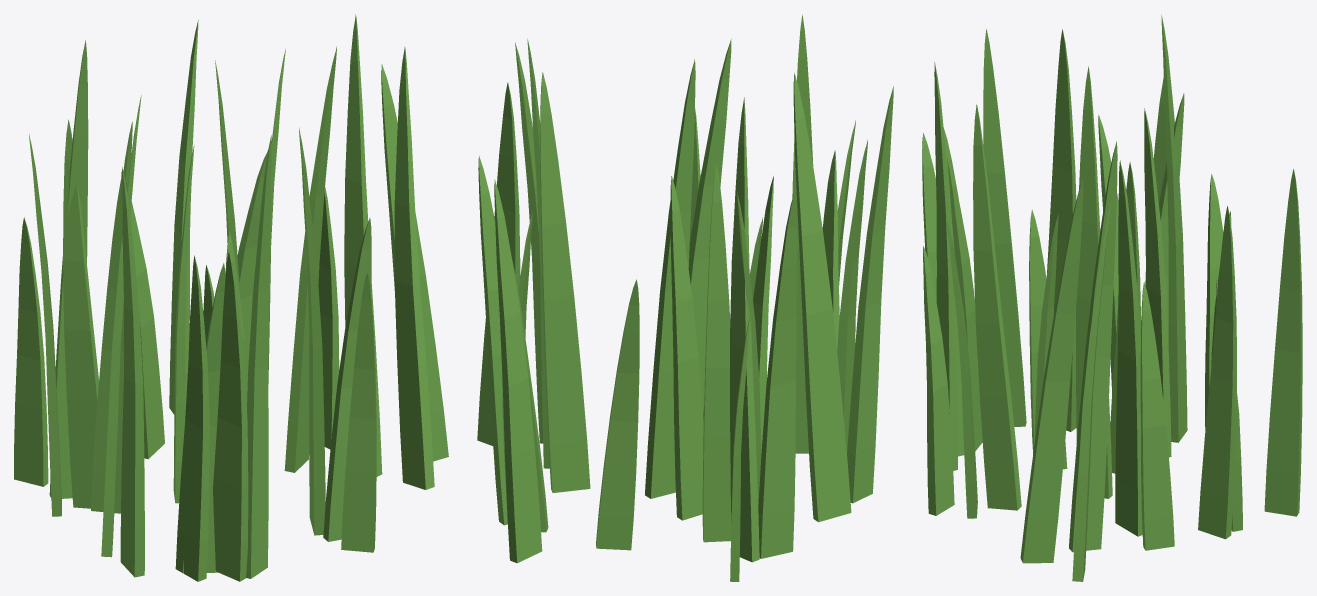
Rendered from High grass 2.fbx.
The picture shows the model from 3 angles, left to right: view 1: azimuth 30°, elevation 25°; view 2: azimuth 150°, elevation 25°; view 3: azimuth 270°, elevation 25°; orthographic projection. The views are drawn at different scales.
Visible parts, largest first — view 1: High grass 2; view 2: High grass 2; view 3: High grass 2.
Part boxes in pixels (<box>): High grass 2: <box>14,14,448,581</box>; High grass 2: <box>477,14,893,581</box>; High grass 2: <box>922,15,1302,581</box>.
Size of the model in its own units: 2.01 by 2.38 by 1.91.
